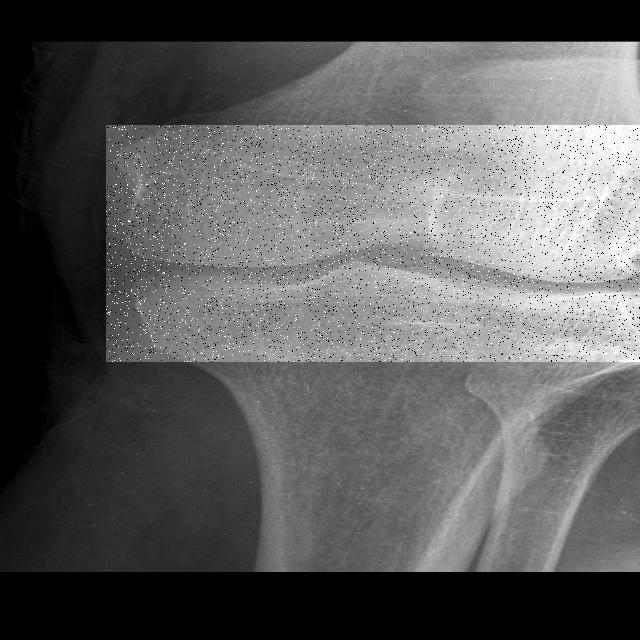osteo: (106, 125, 640, 362)
